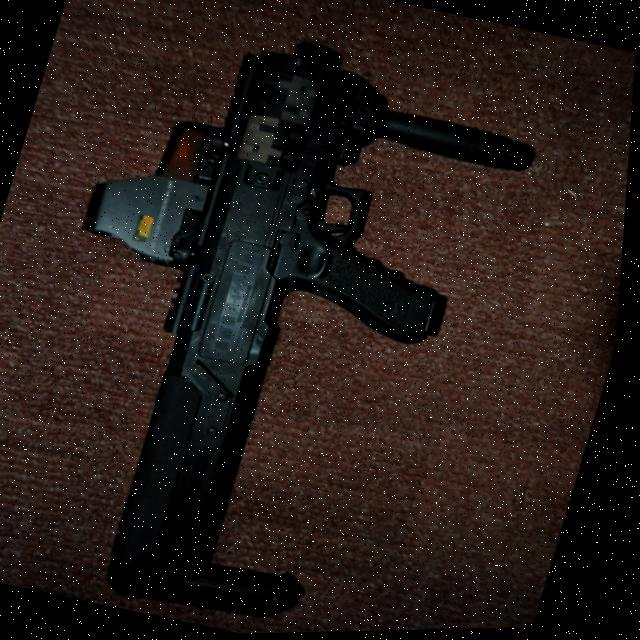firearm: (0, 0, 557, 640)
